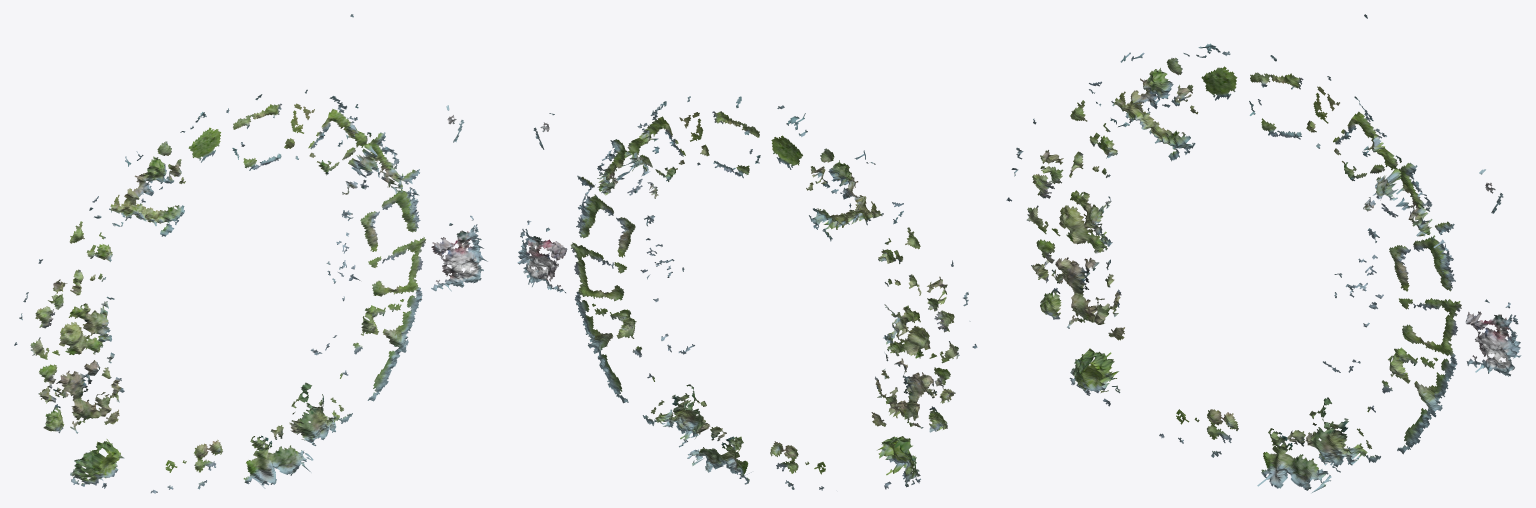
Rendered from lalu_ring.glb.
3 views of the same model, side by side, from view 1: azimuth 30°, elevation 25°; view 2: azimuth 150°, elevation 25°; view 3: azimuth 330°, elevation 25° (orthographic). The views are drawn at different scales.
Visible parts, largest first — view 1: world; view 2: world; view 3: world.
Boxes of the visible parts, left/top/right/bottom form: world: left=14, top=14, right=487, bottom=493; world: left=517, top=96, right=977, bottom=490; world: left=1006, top=14, right=1521, bottom=493.
Bounding box in the file's own units: 75.32 × 69.44 × 3.62.
